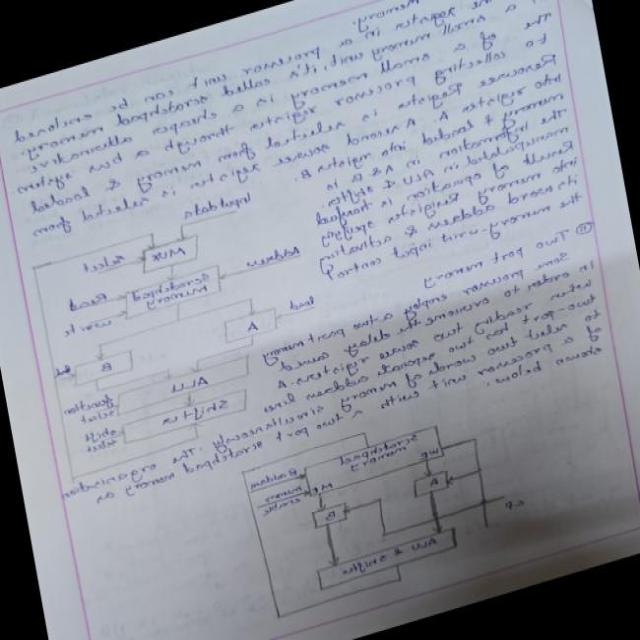Figure Detection - v3 Dataset Version2: (222, 377, 548, 638)
